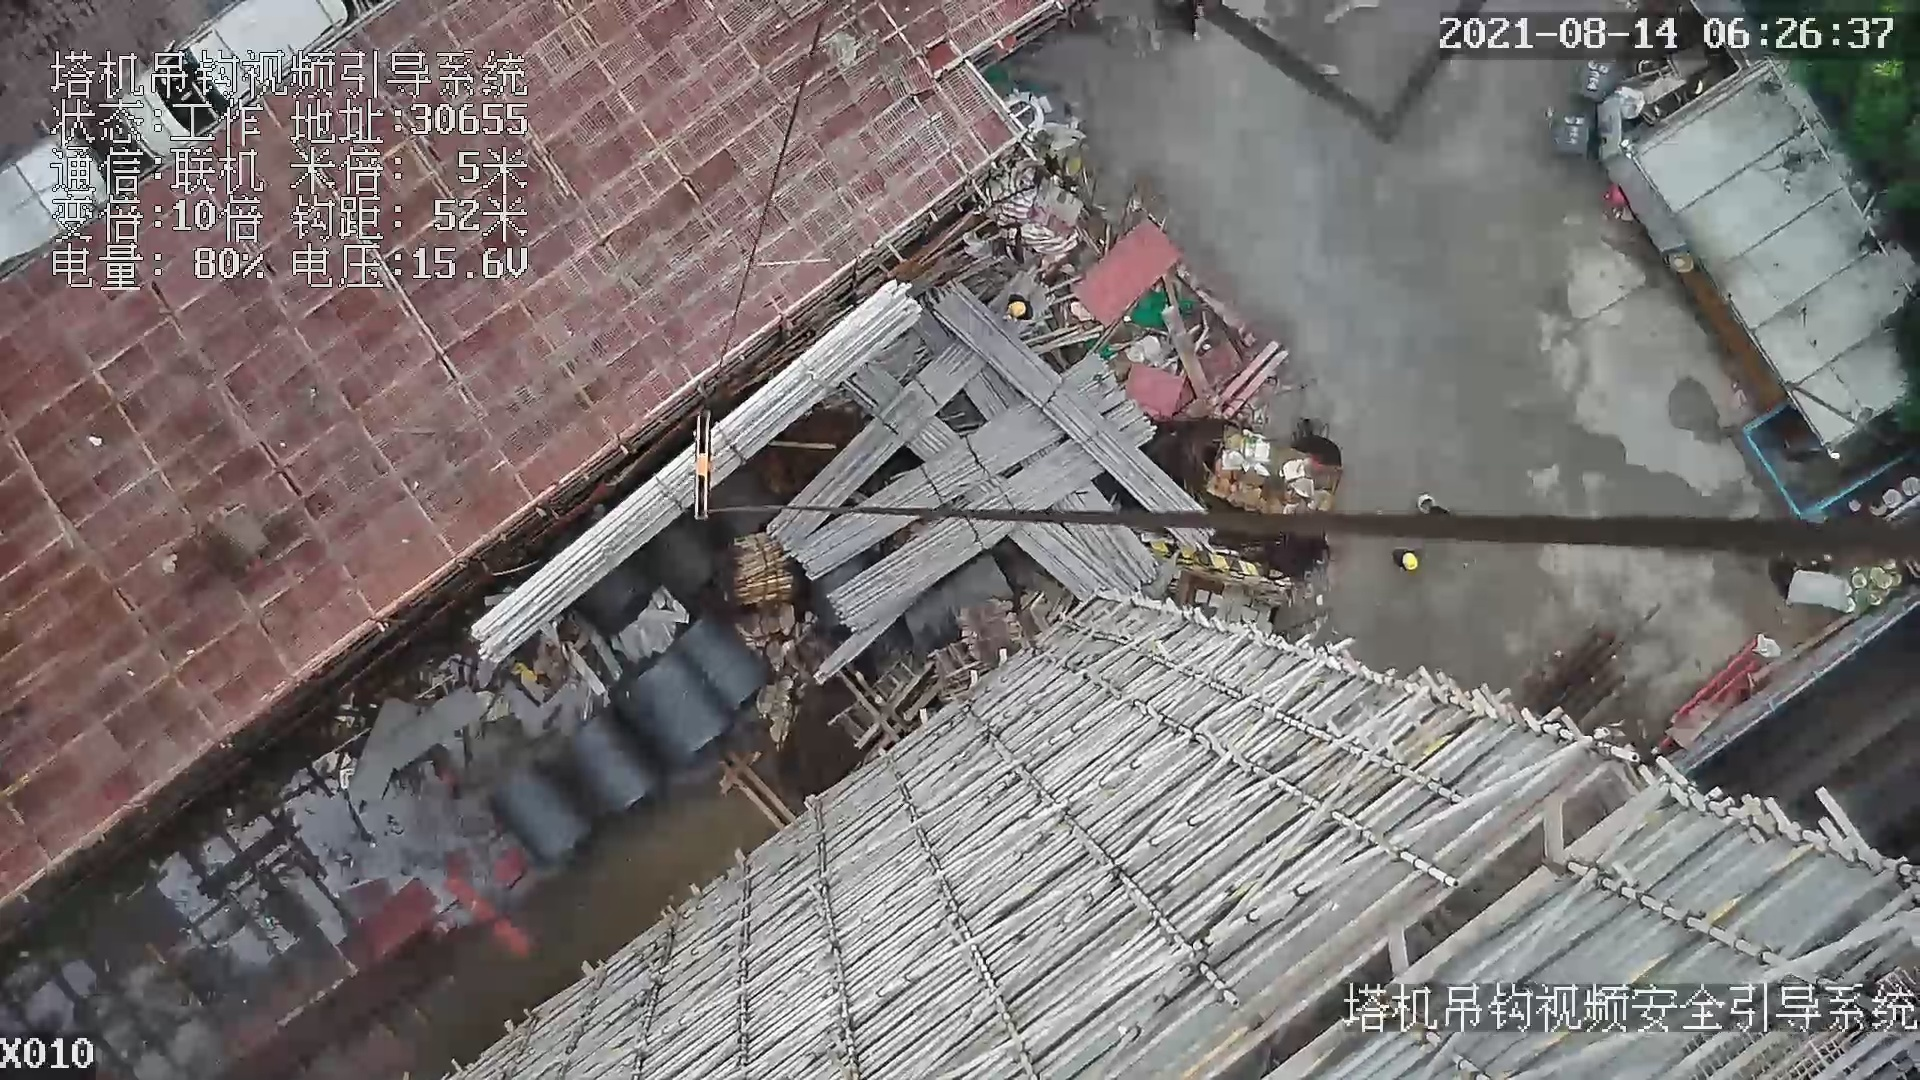helmet: (1401, 550, 1419, 570), (1008, 301, 1026, 318)
hook: (694, 404, 736, 524)
person: (1394, 545, 1422, 571), (1005, 294, 1029, 319)
